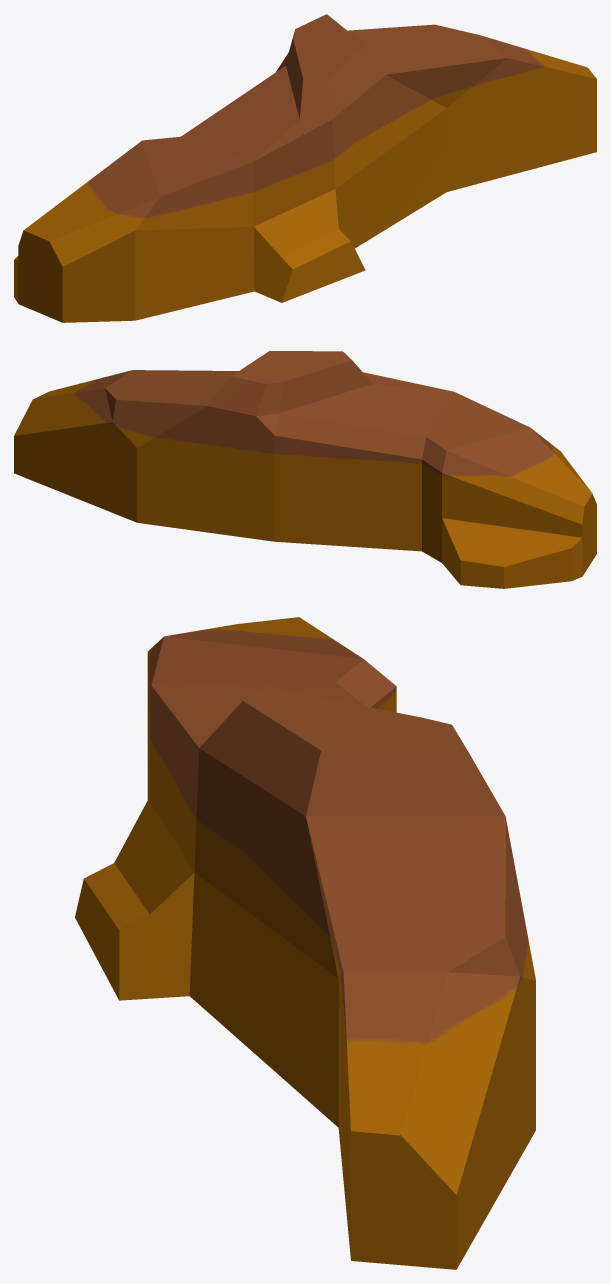
Rendered from cover1.fbx.
3 renders of one model, top to bottom at view 1: azimuth 30°, elevation 25°; view 2: azimuth 150°, elevation 25°; view 3: azimuth 270°, elevation 25°, orthographic. The views are drawn at different scales.
Parts seen in each view (by area): view 1: cover1; view 2: cover1; view 3: cover1.
Part boxes in pixels (x1=…): cover1: x1=14, y1=14, x2=596, y2=322; cover1: x1=14, y1=351, x2=596, y2=588; cover1: x1=75, y1=617, x2=535, y2=1269.
Size of the model in its own units: 745 by 204 by 279.
